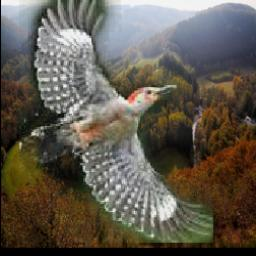Woodpecker: (20, 0, 214, 243)
